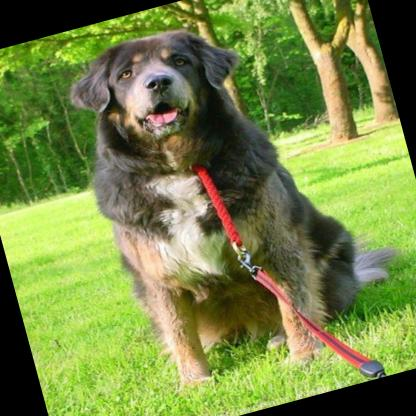Tibetan_mastiff: (48, 0, 416, 411)
